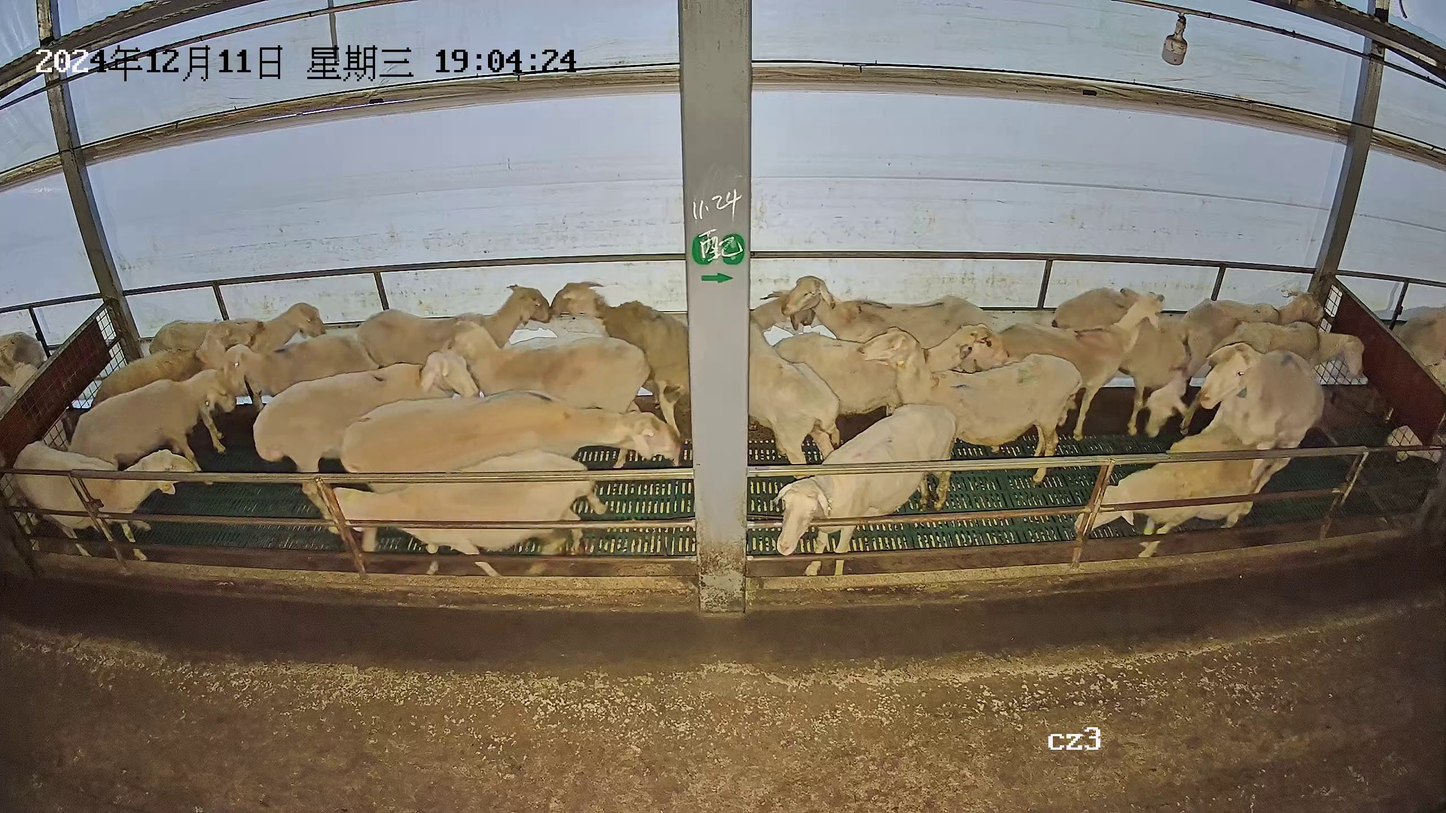Smounting: (1070, 339, 1327, 560)
mounted: (1074, 424, 1268, 557)
